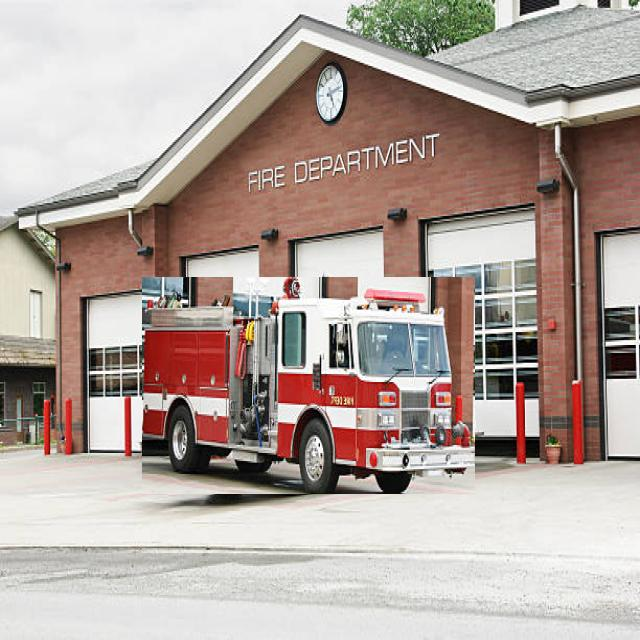emergency: (142, 278, 475, 494)
